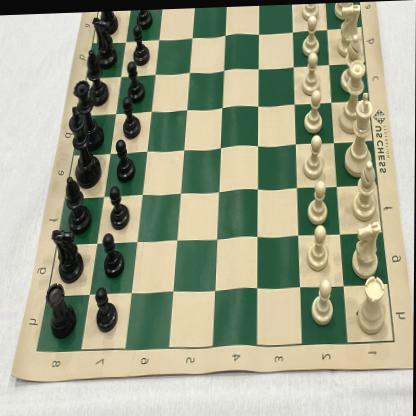black-bishop: (66, 174, 92, 232), (86, 47, 110, 104)
black-king: (66, 102, 101, 186)
black-pawn: (95, 280, 118, 332), (102, 228, 124, 276), (122, 90, 142, 138), (110, 179, 130, 227), (126, 57, 147, 100), (116, 134, 135, 180), (132, 22, 151, 64), (134, 8, 154, 30)
black-queen: (72, 76, 100, 140)
black-rook: (52, 222, 84, 282), (46, 279, 79, 337), (93, 13, 118, 65), (96, 8, 118, 34)
white-bishop: (352, 158, 380, 219), (340, 34, 364, 92)
white-king: (344, 91, 375, 177)
white-knight: (352, 218, 382, 279), (336, 3, 362, 57)
white-pawn: (306, 224, 334, 272), (312, 278, 338, 326), (302, 133, 328, 180), (308, 180, 334, 223), (304, 88, 328, 134), (302, 14, 324, 56), (302, 51, 323, 95), (301, 2, 323, 20)
white-queen: (340, 60, 368, 134)
white-rook: (357, 272, 387, 335), (334, 2, 356, 20)
